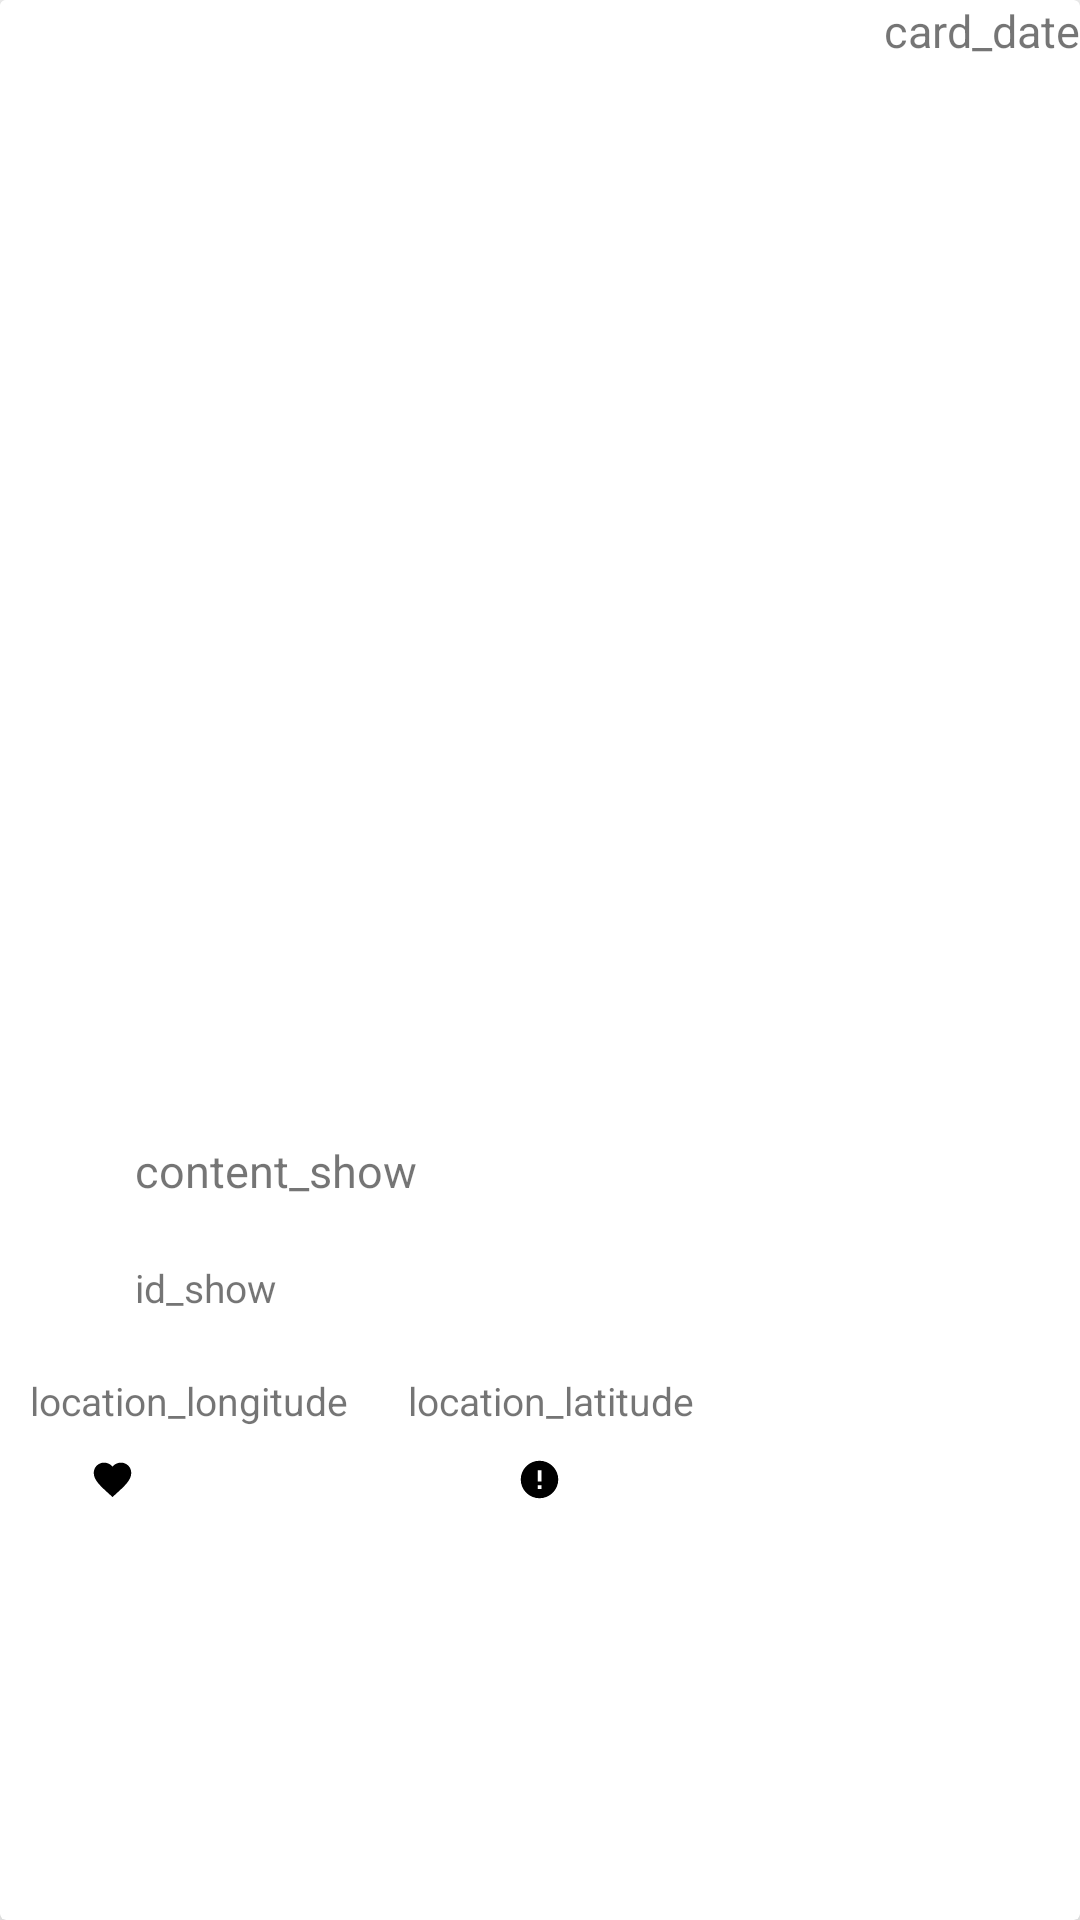

Screen size 1080px x 1920px. Icon name, then its center in pixels as [x,y]:
error: [539,1479]
favorite: [112,1479]
